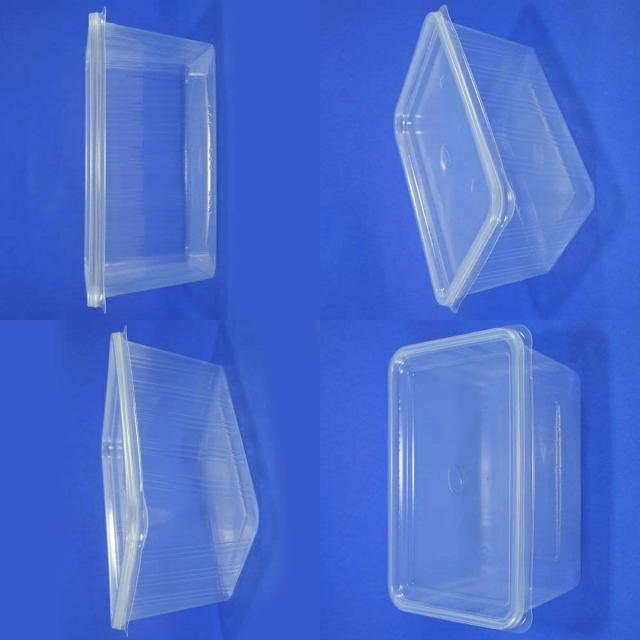Single-Use-Plastic: (395, 6, 594, 310), (389, 326, 581, 632), (101, 332, 259, 629), (85, 11, 216, 308)
